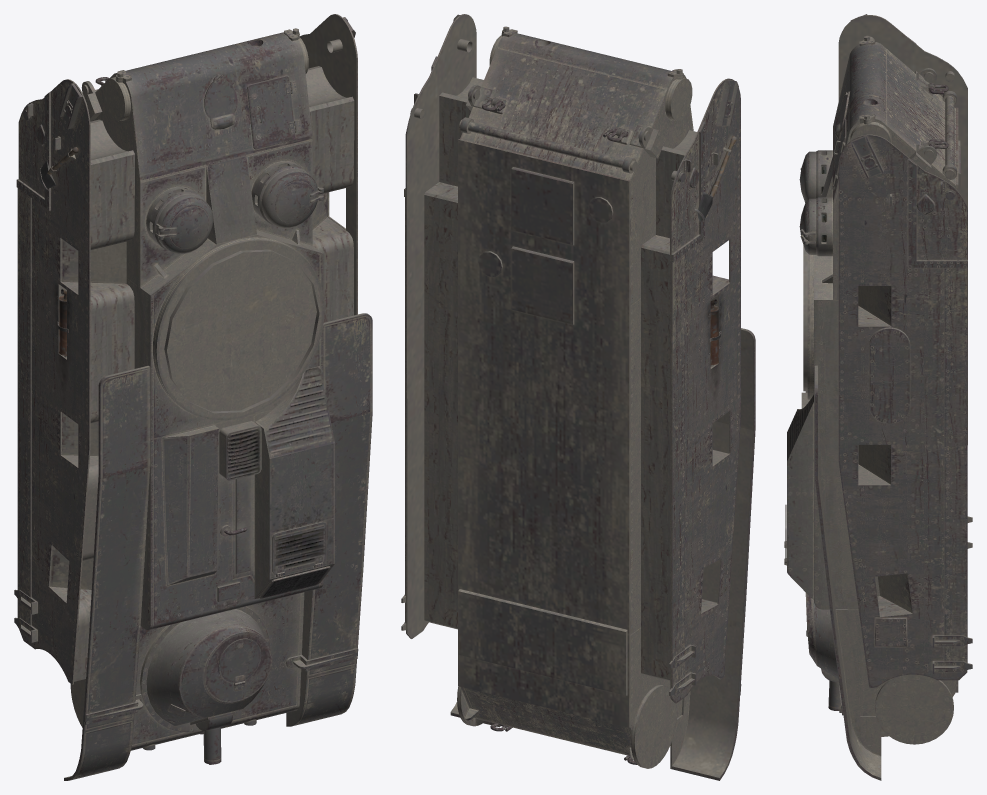
The model's file is Hull.glb.
The picture shows the model from 3 angles, left to right: view 1: azimuth 30°, elevation 25°; view 2: azimuth 150°, elevation 25°; view 3: azimuth 270°, elevation 25°; orthographic projection. The views are drawn at different scales.
Parts seen in each view (by area): view 1: set_0_group_0; view 2: set_0_group_0; view 3: set_0_group_0.
Part boxes in pixels (x1=…): set_0_group_0: x1=14, y1=14, x2=372, y2=780; set_0_group_0: x1=401, y1=14, x2=755, y2=780; set_0_group_0: x1=784, y1=14, x2=972, y2=780.
Size of the model in its own units: 2.85 by 6.78 by 1.8.
1 material, 1 textured.
